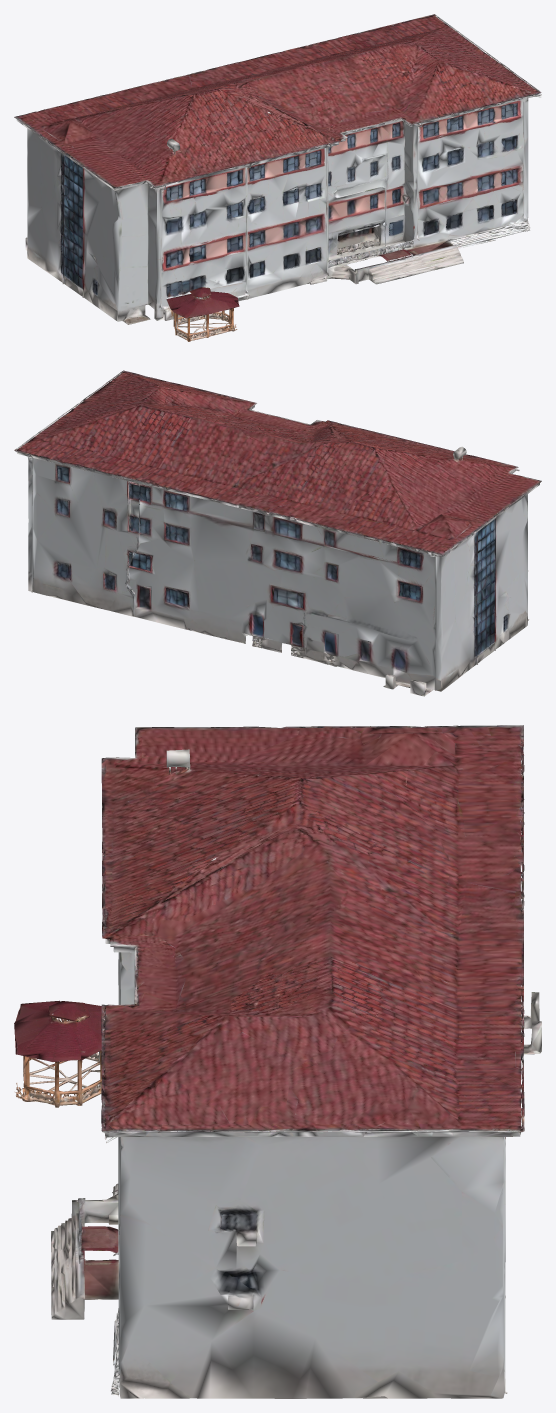
Rendered from bilsem-bina.glb.
3 views of the same model, one above another, from view 1: azimuth 30°, elevation 25°; view 2: azimuth 150°, elevation 25°; view 3: azimuth 270°, elevation 25° (orthographic). The views are drawn at different scales.
Parts seen in each view (by area): view 1: Bina, Kamelya; view 2: Bina; view 3: Bina, Kamelya.
Boxes of the visible parts, box(x1,y1,x2,y2) form: Bina: box(14, 14, 541, 324); Kamelya: box(166, 287, 239, 341); Bina: box(14, 370, 541, 696); Bina: box(51, 725, 541, 1398); Kamelya: box(14, 1000, 104, 1107).
Size of the model in its own units: 1.74 by 0.7048 by 0.9538.
1 material, 1 textured.
